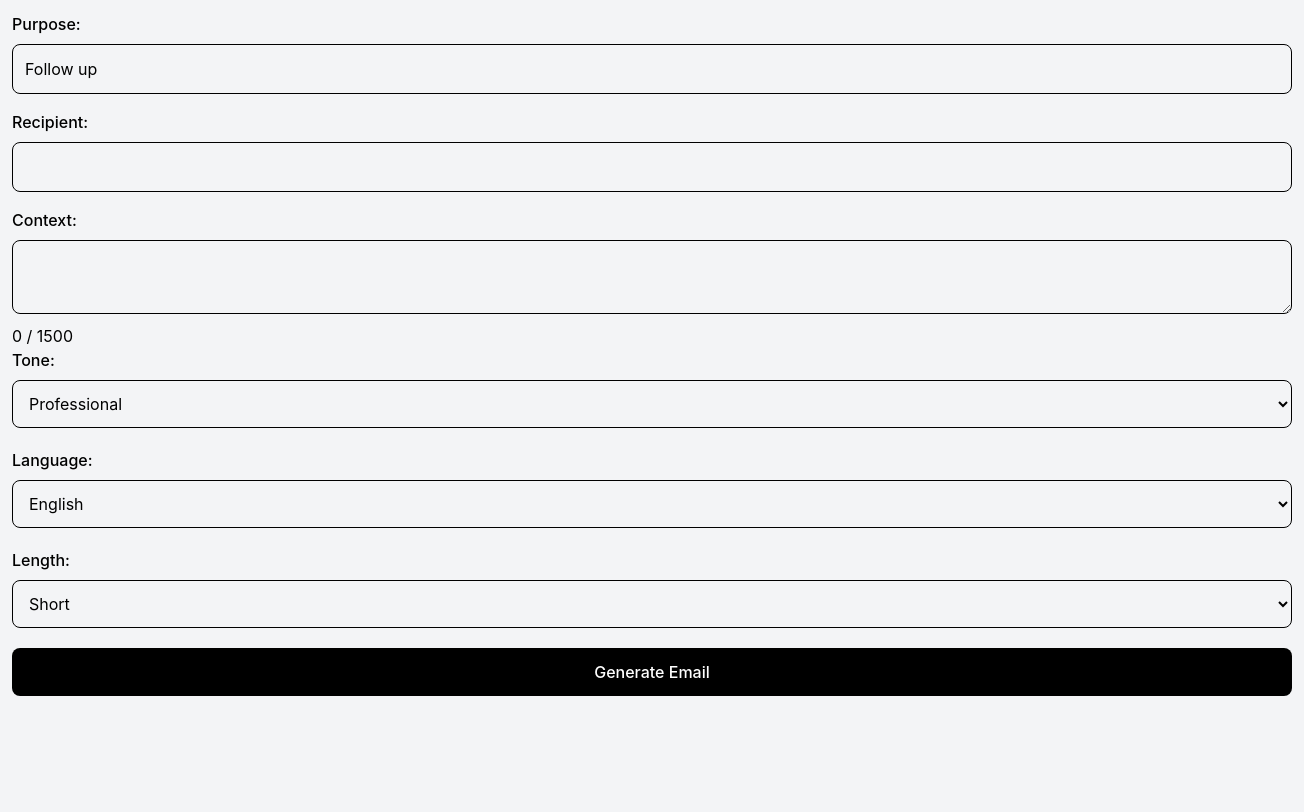
Test: EmailForm › shows a context validation error and does not generate when context is empty
Click the button "Generate Email": (652, 672) x1=12 y1=648 x2=1292 y2=696
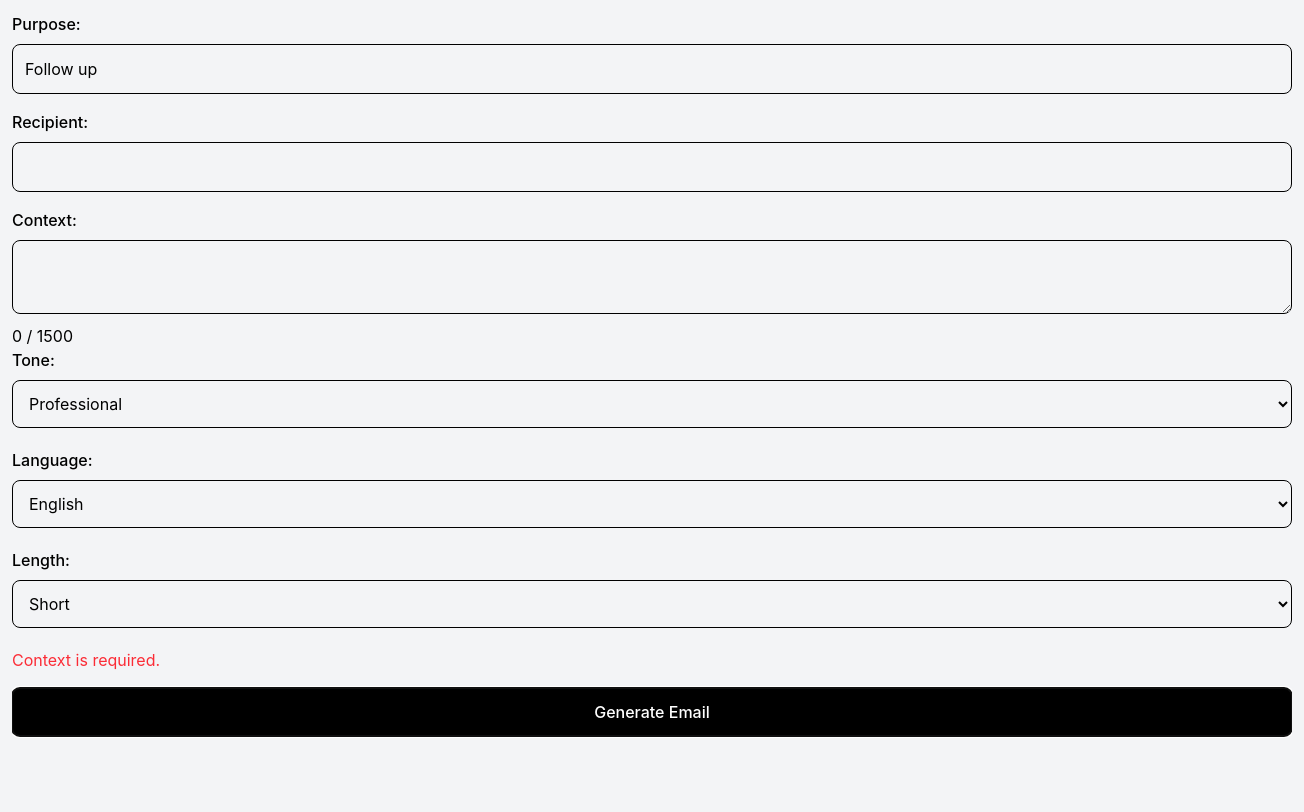
Now the text "Context is required." is shown, box x1=12 y1=650 x2=160 y2=670
